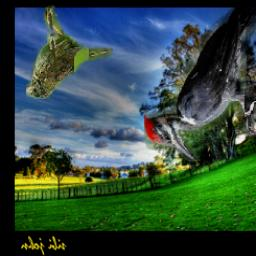Sparrow: (25, 4, 112, 99)
Woodpecker: (144, 9, 256, 162)
